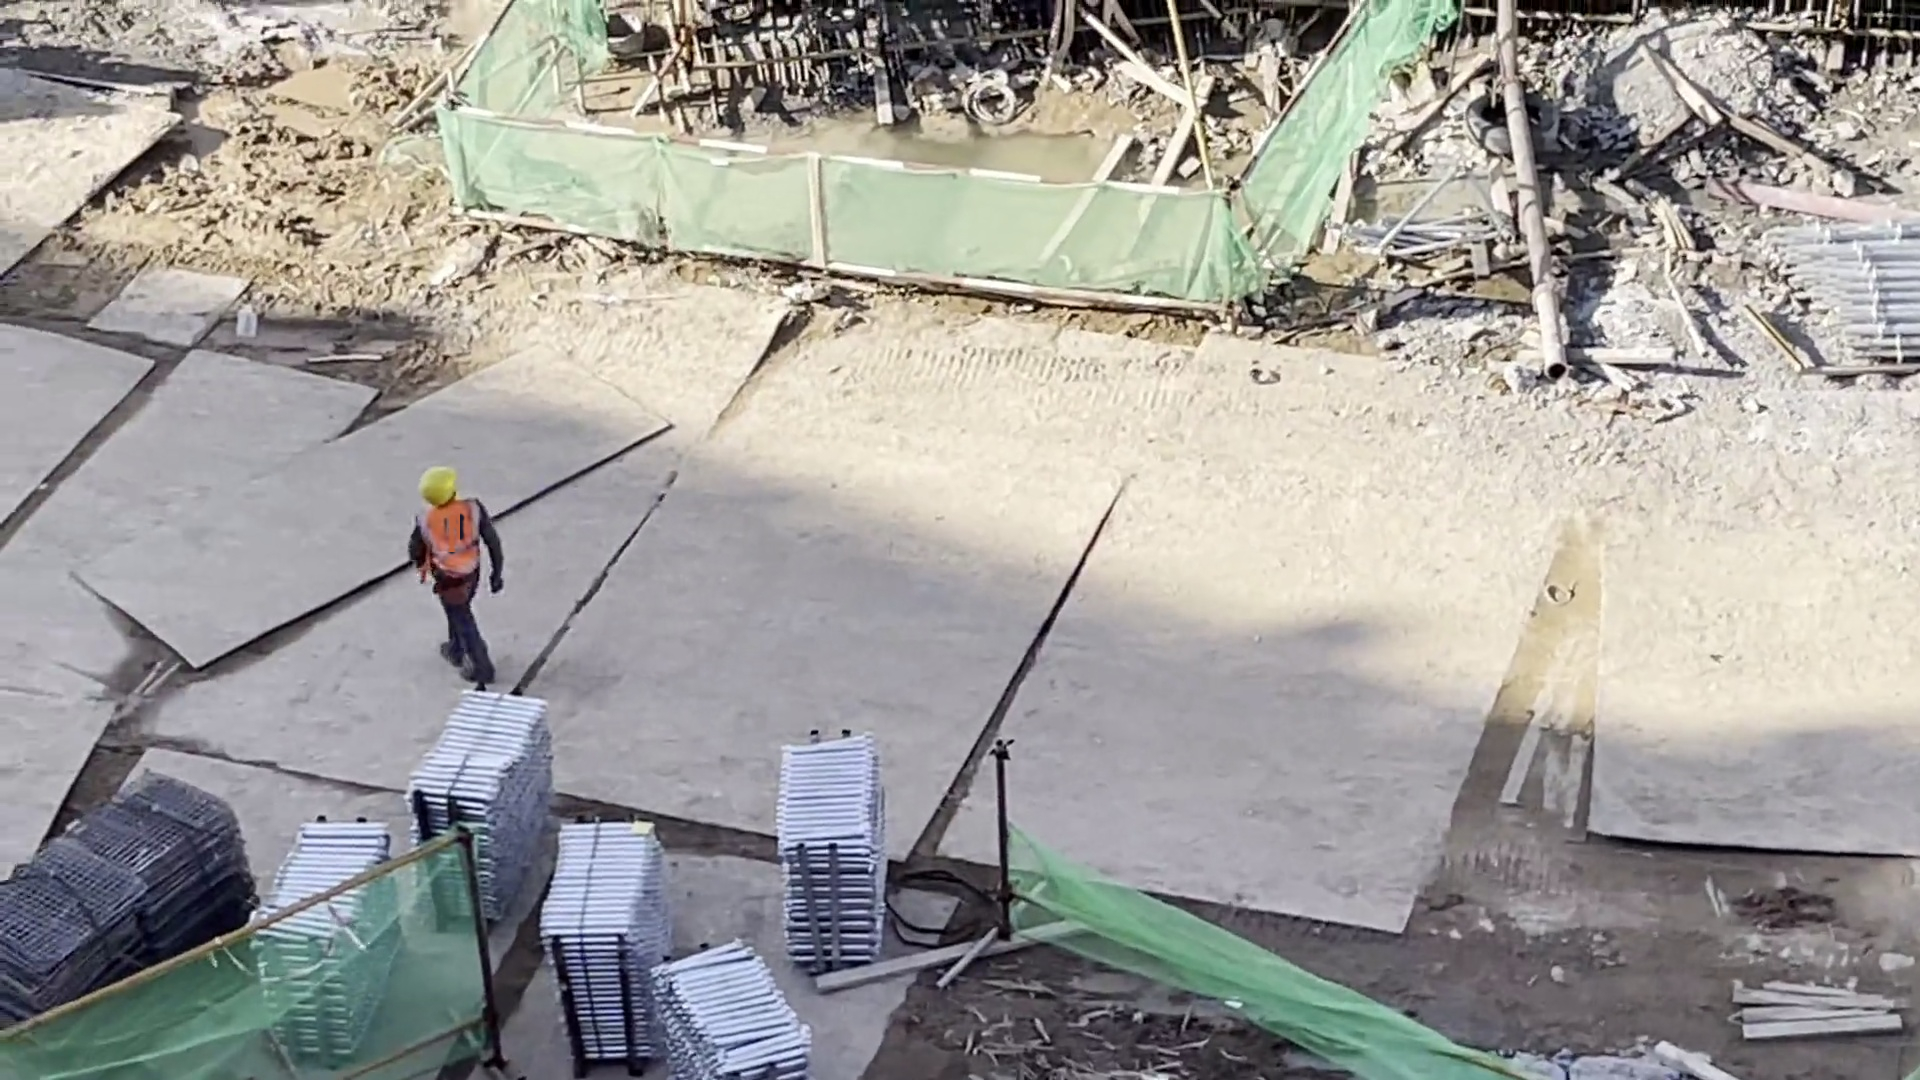helmet: (412, 458, 470, 509)
person: (393, 458, 514, 697)
scaffold: (244, 799, 404, 1073), (393, 676, 556, 927), (1728, 174, 1920, 383), (758, 730, 913, 979), (540, 801, 681, 1065), (646, 939, 817, 1080)
vest: (417, 501, 497, 586)
